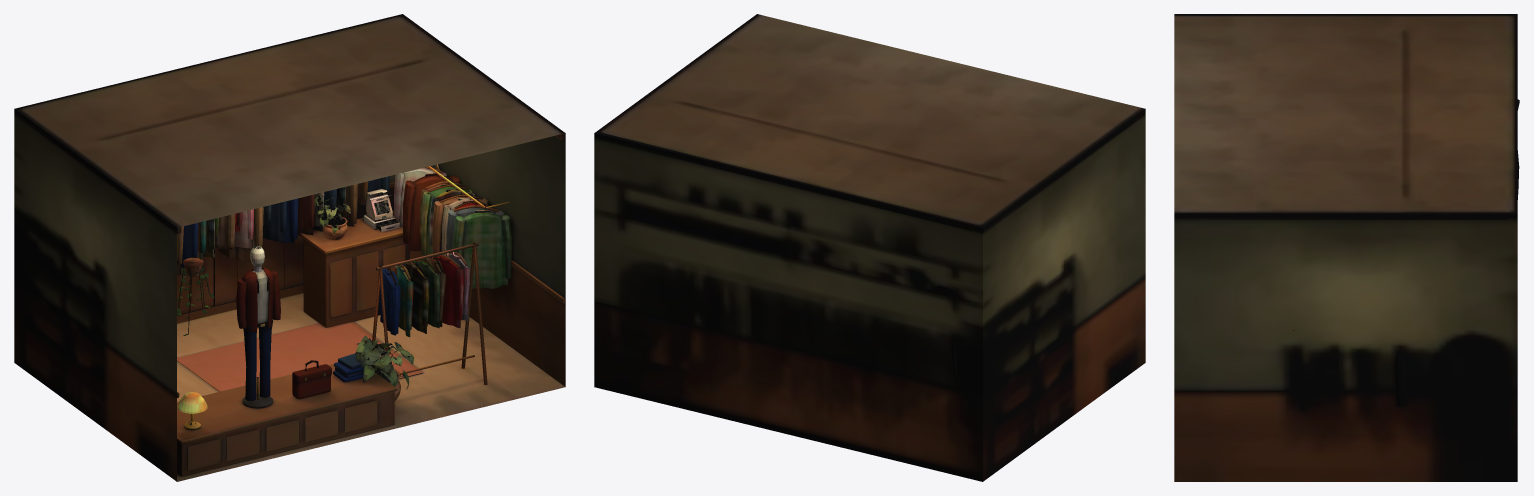
File: tz_wente_interior_v2.glb
3 renders of one model, left to right at view 1: azimuth 30°, elevation 25°; view 2: azimuth 150°, elevation 25°; view 3: azimuth 270°, elevation 25°, orthographic. The views are drawn at different scales.
Visible parts, largest first — view 1: wente_interior; view 2: wente_interior; view 3: wente_interior.
Boxes of the visible parts, x1,y1,x2,y2 form: wente_interior: (14,14,565,481); wente_interior: (594,14,1145,481); wente_interior: (1174,14,1519,481).
Bounding box in the file's own units: 4.98 × 3.1 × 3.62.
Materials: 1 (1 with a texture image).
